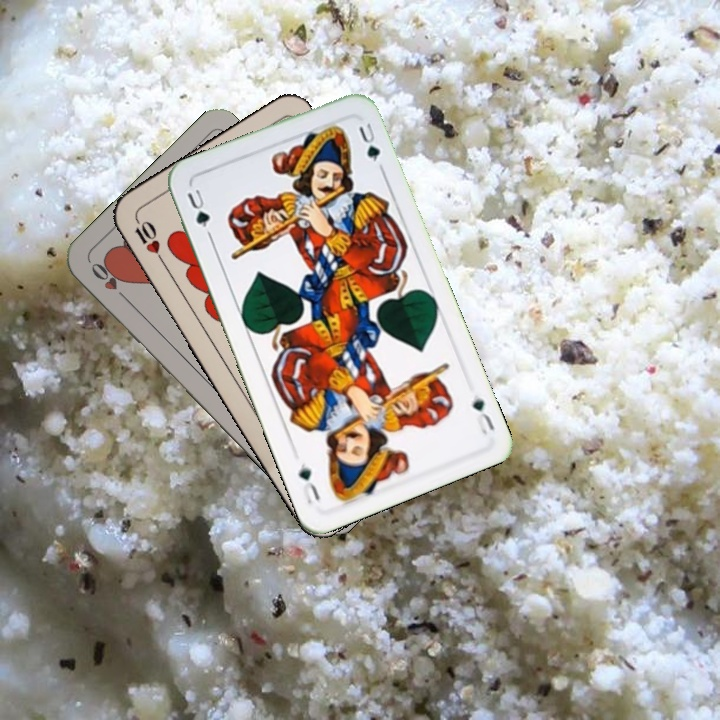GU: (183, 184, 214, 239), (466, 390, 497, 438)
H10: (130, 214, 168, 267)
HO: (86, 258, 132, 305)
